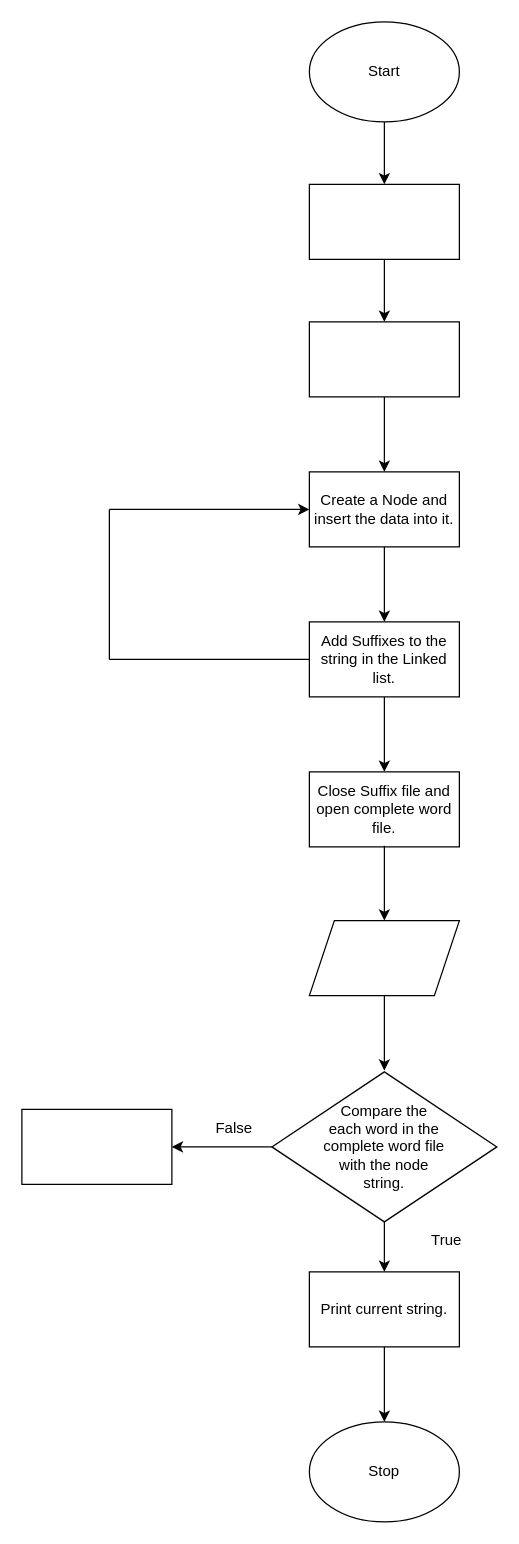
Image size: 519x1544. Some labels were removed from this diagram. Here are the shapes that lost their labels. From the top down, the box of each, then its label:
(308, 183, 459, 259): Create structure of linked list.
(308, 321, 459, 397): Open the file Suffix.txt and read the file.
(308, 919, 459, 996): Read the data.
(21, 1108, 172, 1184): Print "Word is not available in our Complete word file".
